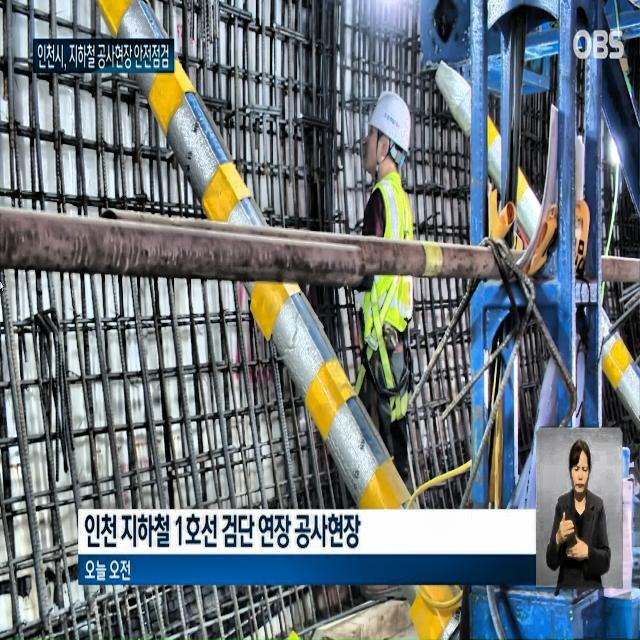safety_helmet: (369, 88, 413, 157)
safety_jacket: (359, 177, 415, 355)
